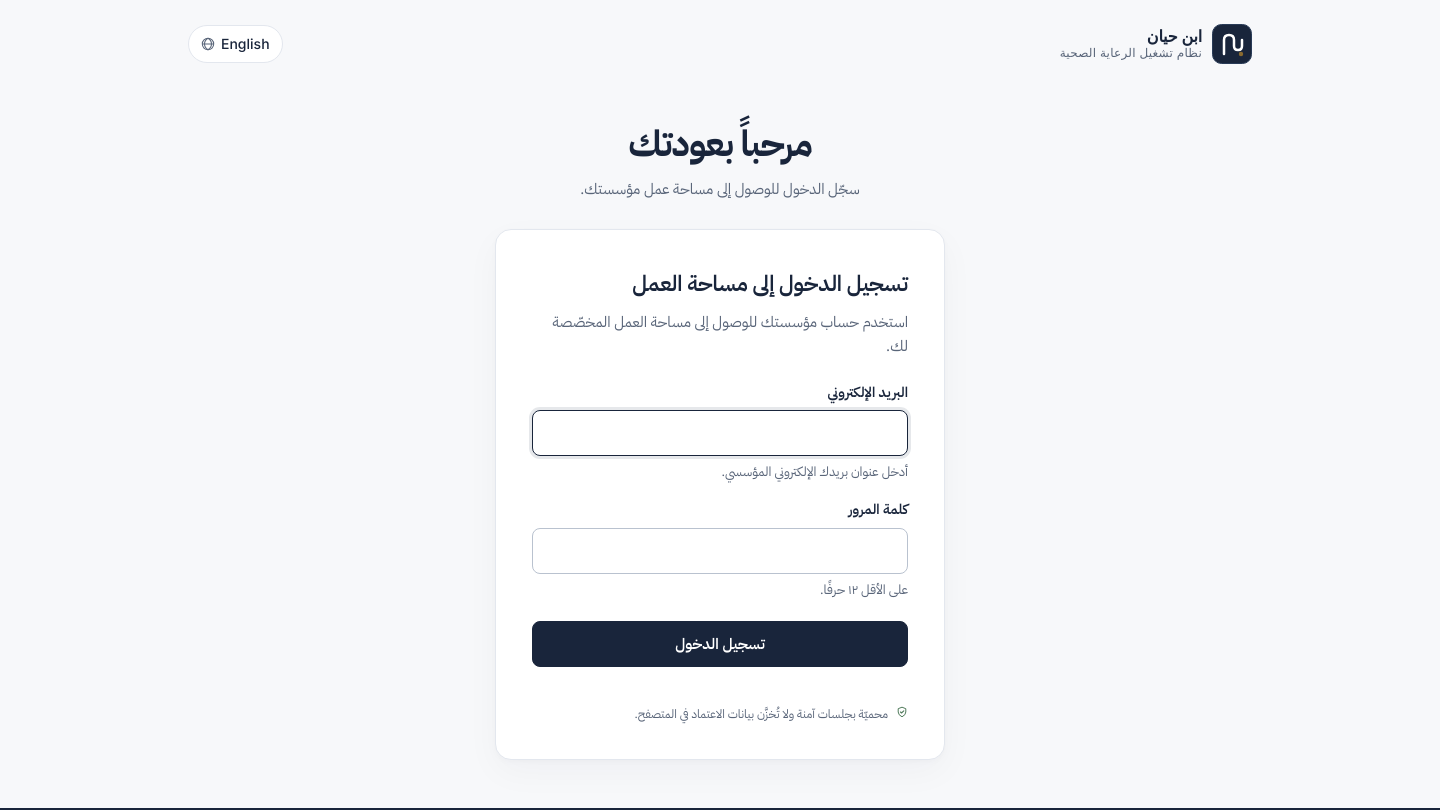
Test: LoginPage (direct-link route) › displays a generic failure message on 401 without infrastructure details
The image size is (1440, 810).
Expected: the button "تسجيل الدخول" is shown, [532,621,908,667]
Step 1. Type "test@example.invalid" into the field labelled "البريد الإلكتروني" → (720, 433), box [532,410,908,456]
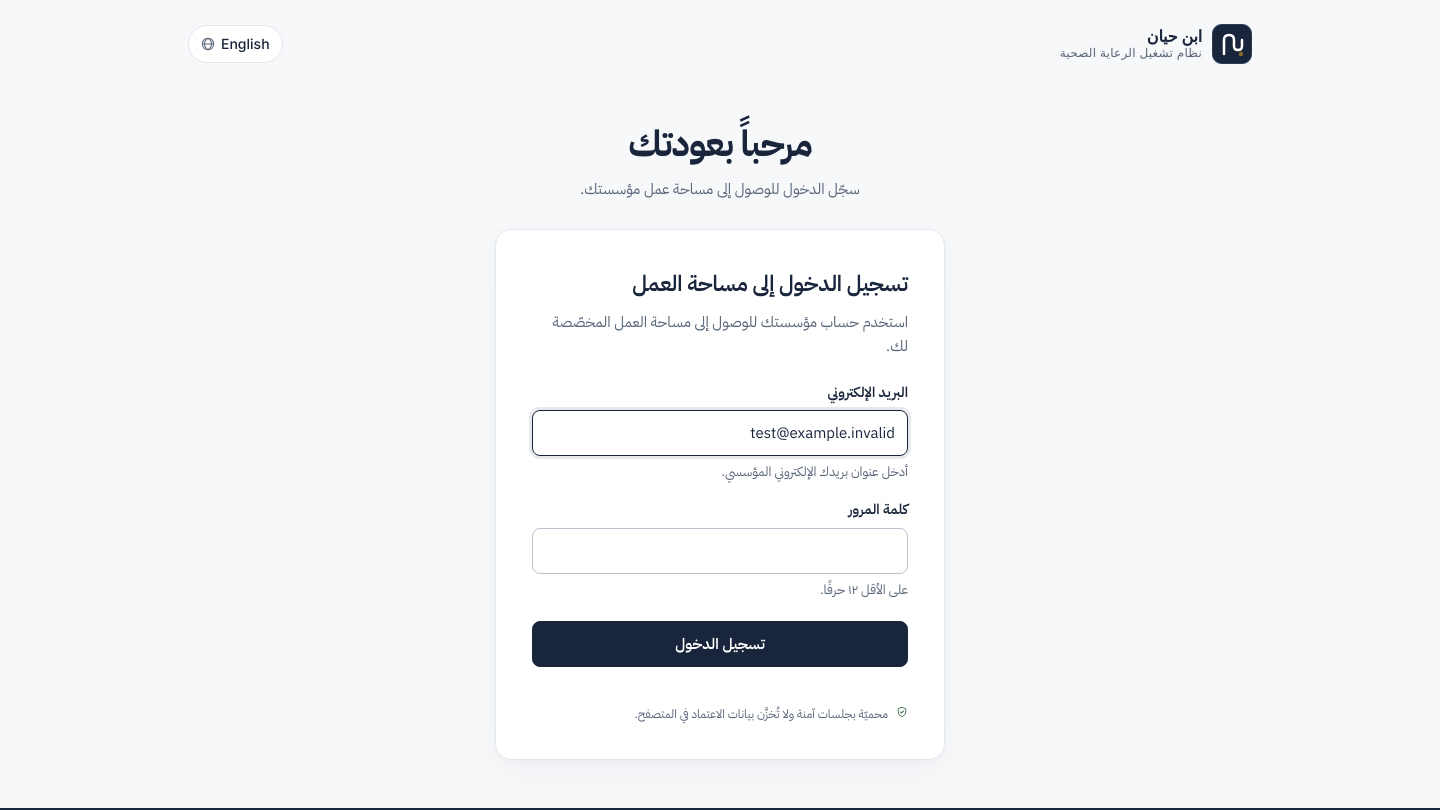
Step 2. Type "sufficiently-long-password" into the password field labelled "كلمة المرور" → (720, 551), box [532,528,908,574]
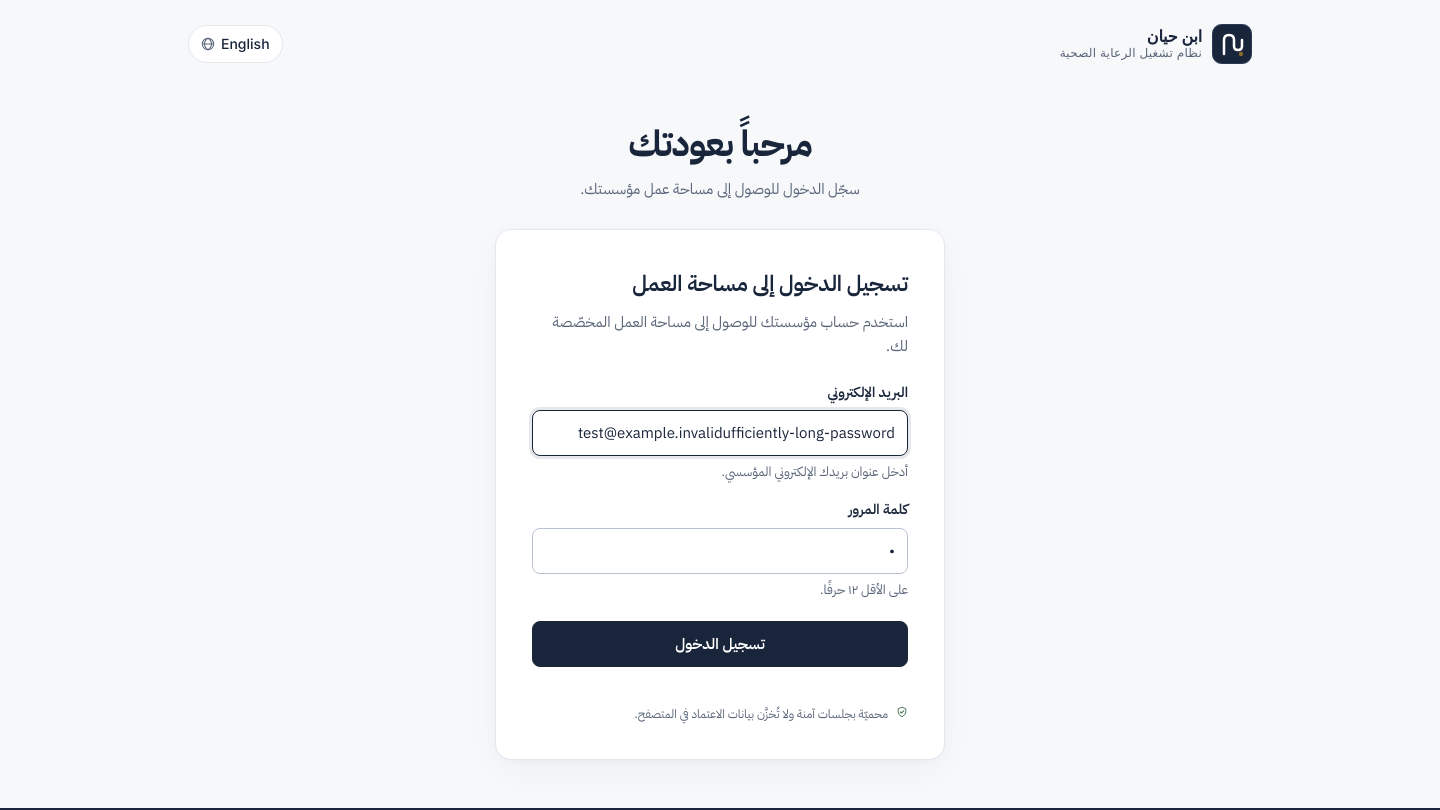
Step 3. Click the button "تسجيل الدخول" → (720, 644), box [532,621,908,667]
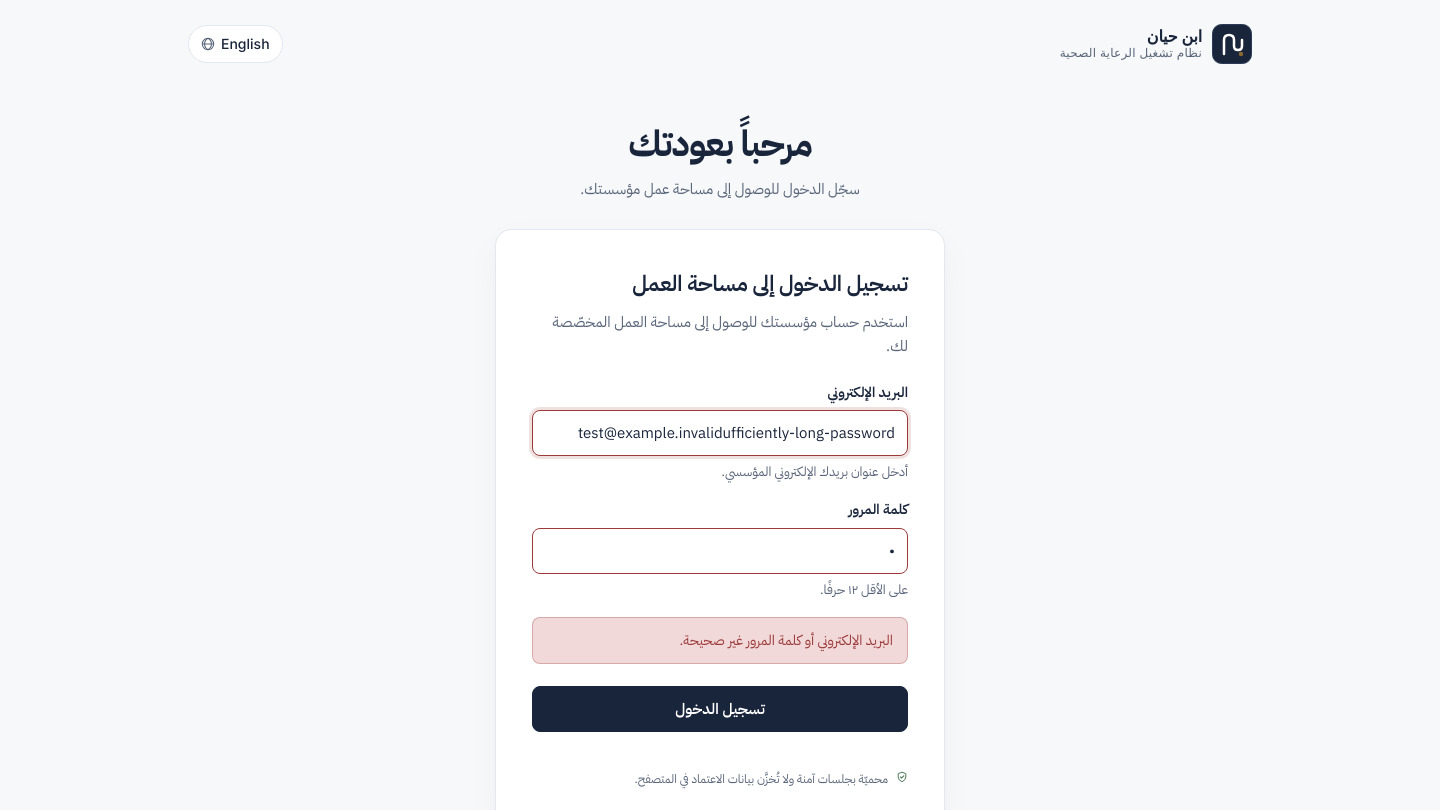
Now the message "البريد الإلكتروني أو كلمة المرور غير صحيحة." is shown, box [532,617,908,664]
Now the message reads "البريد الإلكتروني أو كلمة المرور غير صحيحة.", box [680,630,893,651]
